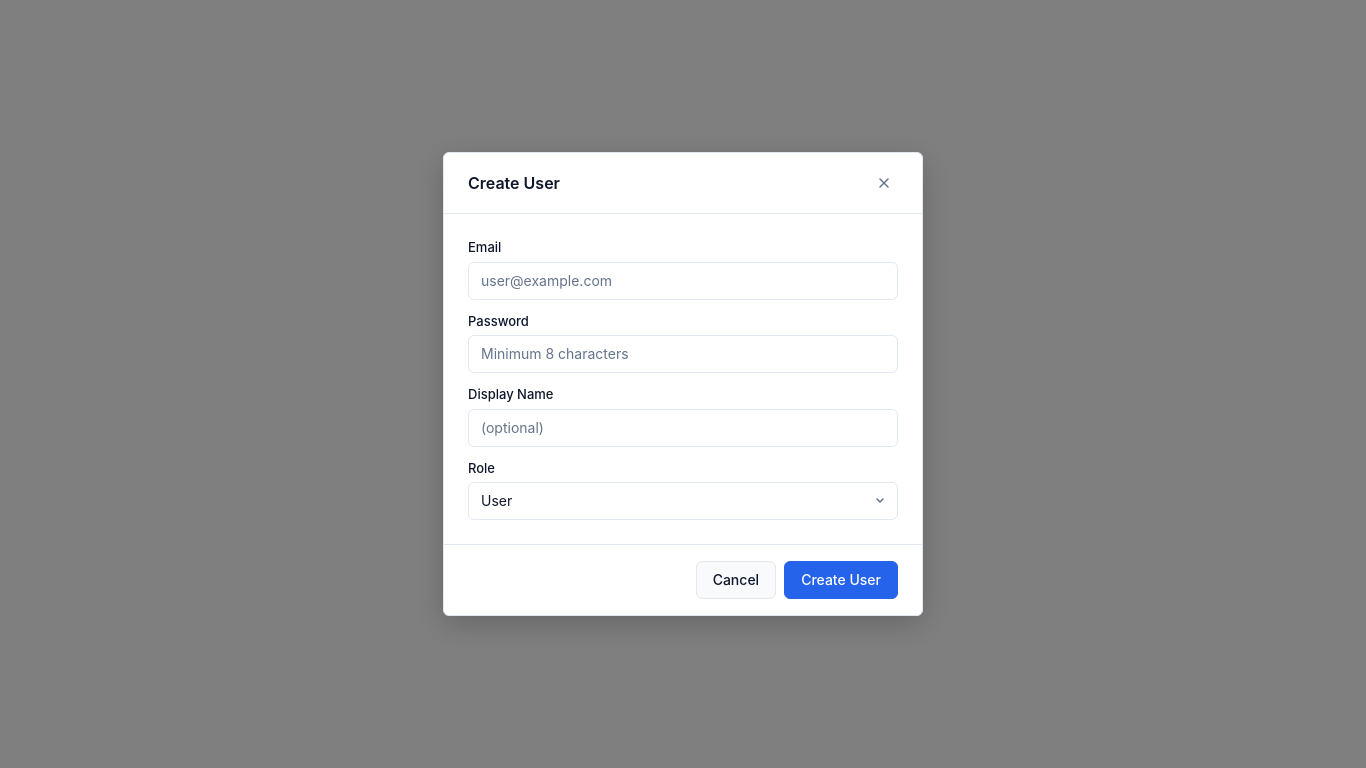
Scenario: CreateUserModal › validates required fields before submitting
The image size is (1366, 768).
Click the button "Create User" at (841,580), box [784,561,898,599]
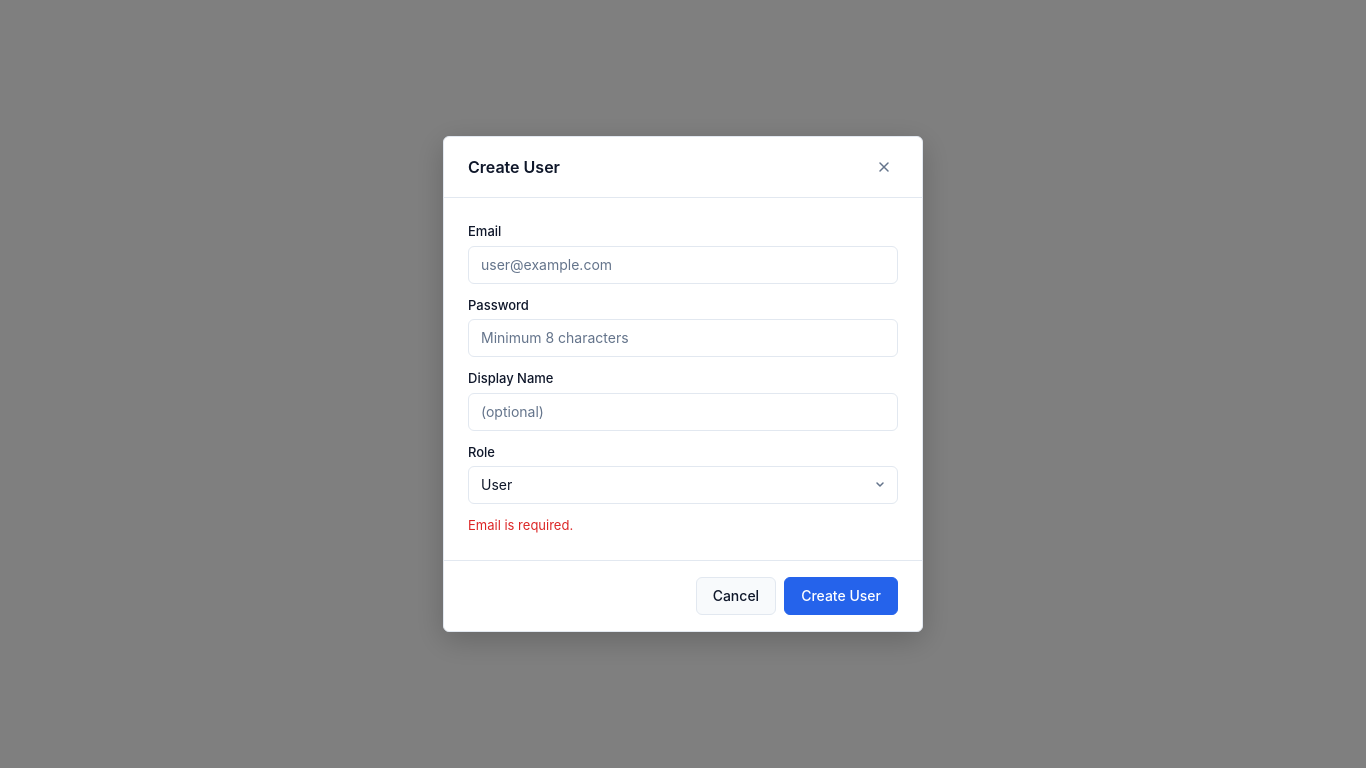
Expected: the text "Email is required." is shown, [468,517,573,533]
Type "not-an-email" into the field labelled "Email" at (683,265), box [468,246,898,284]
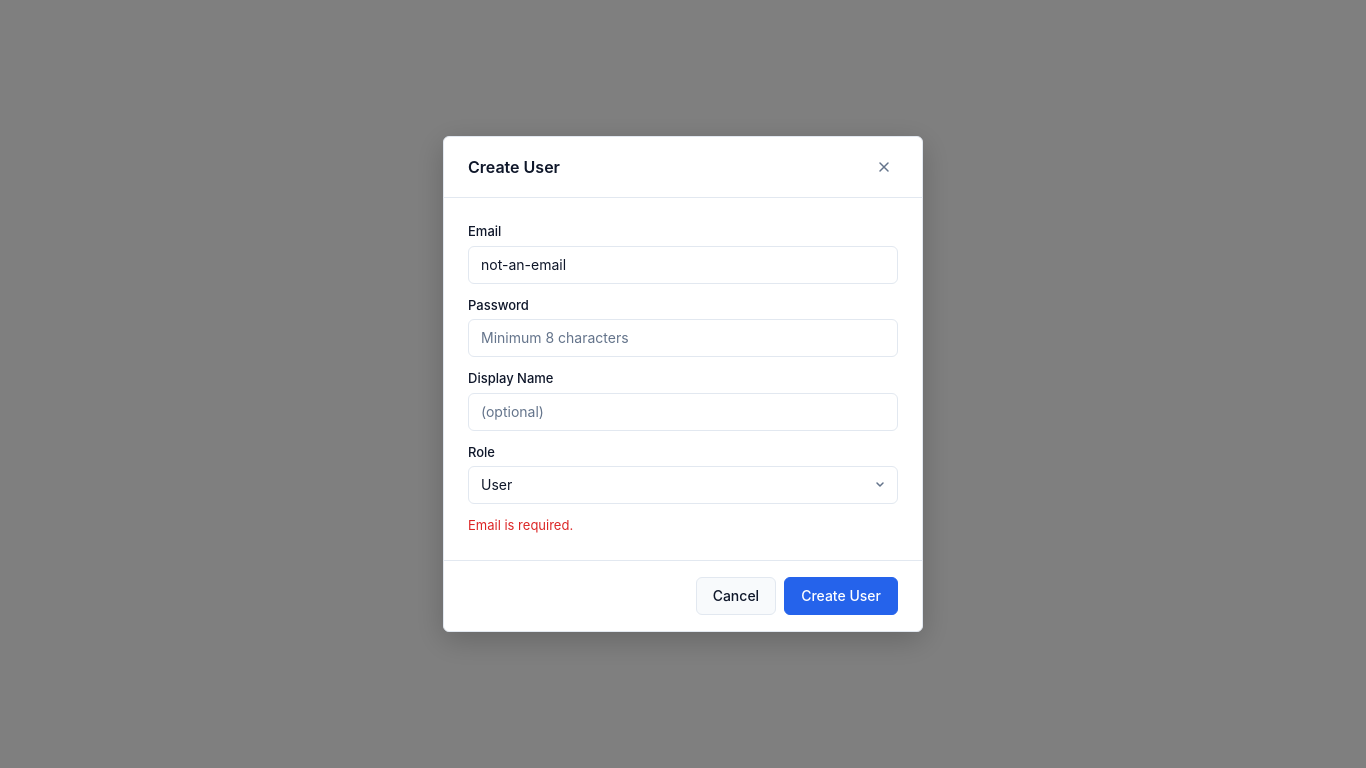
Click the button "Create User" at (841,596), box [784,577,898,615]
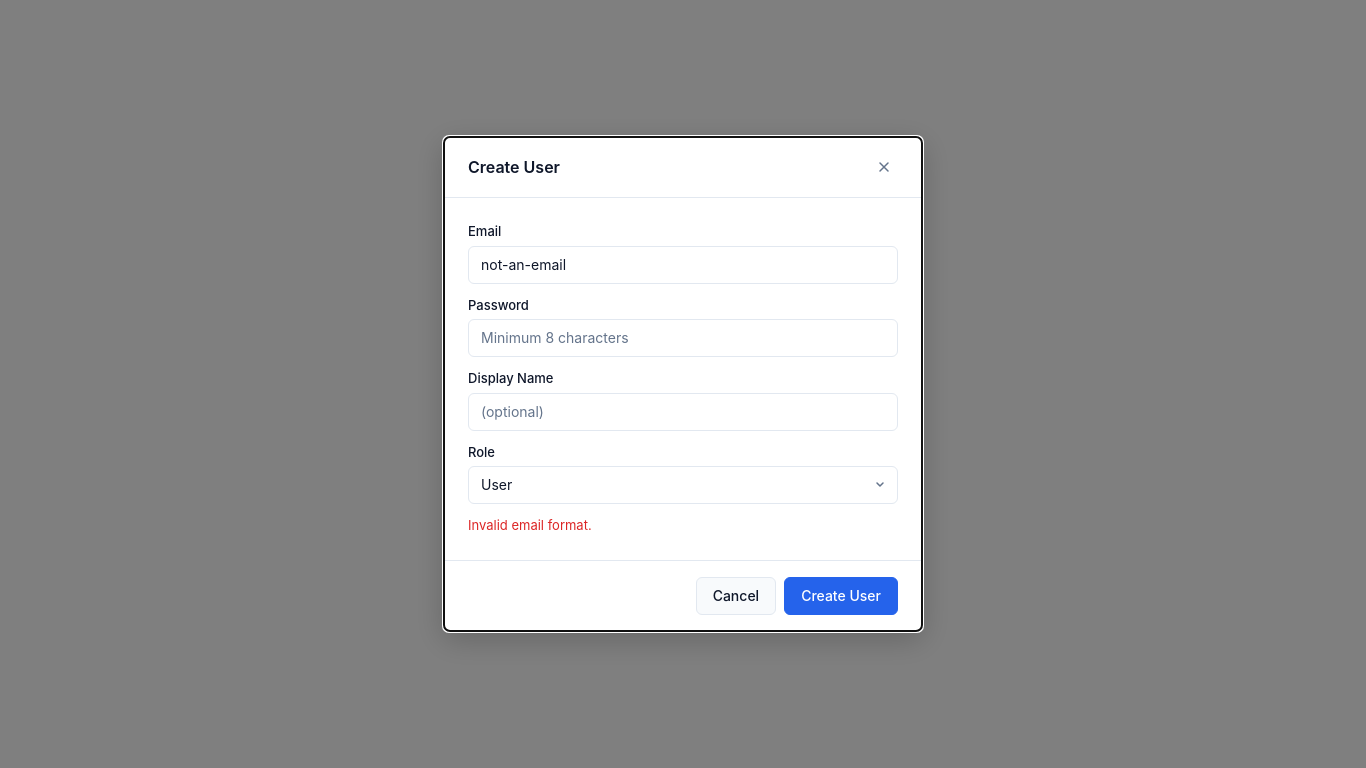
Expected: the text "Invalid email format." is shown, [468,517,592,533]
Replace the text in the field labelled "Email" with "user@example.com" at (683,265), box [468,246,898,284]
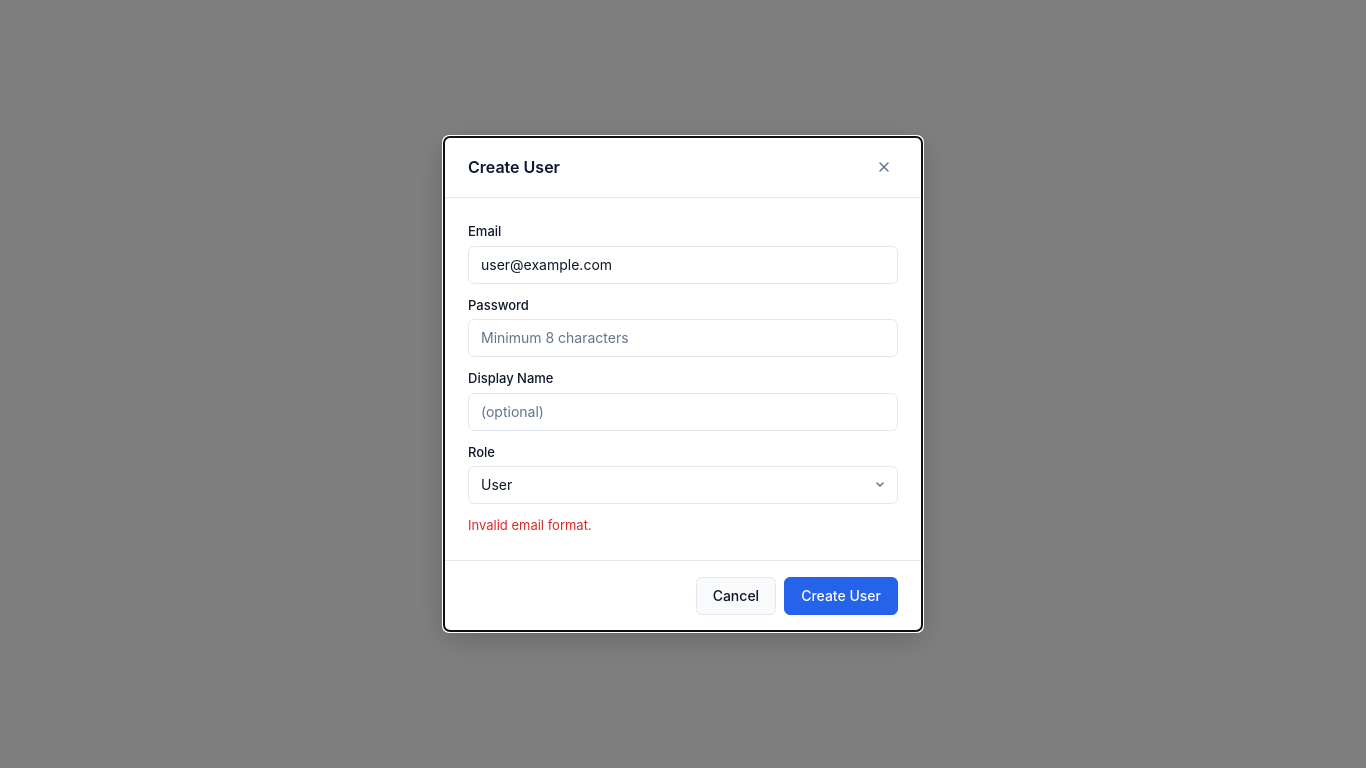
Type "short" into the password field labelled "Password" at (683,338), box [468,319,898,357]
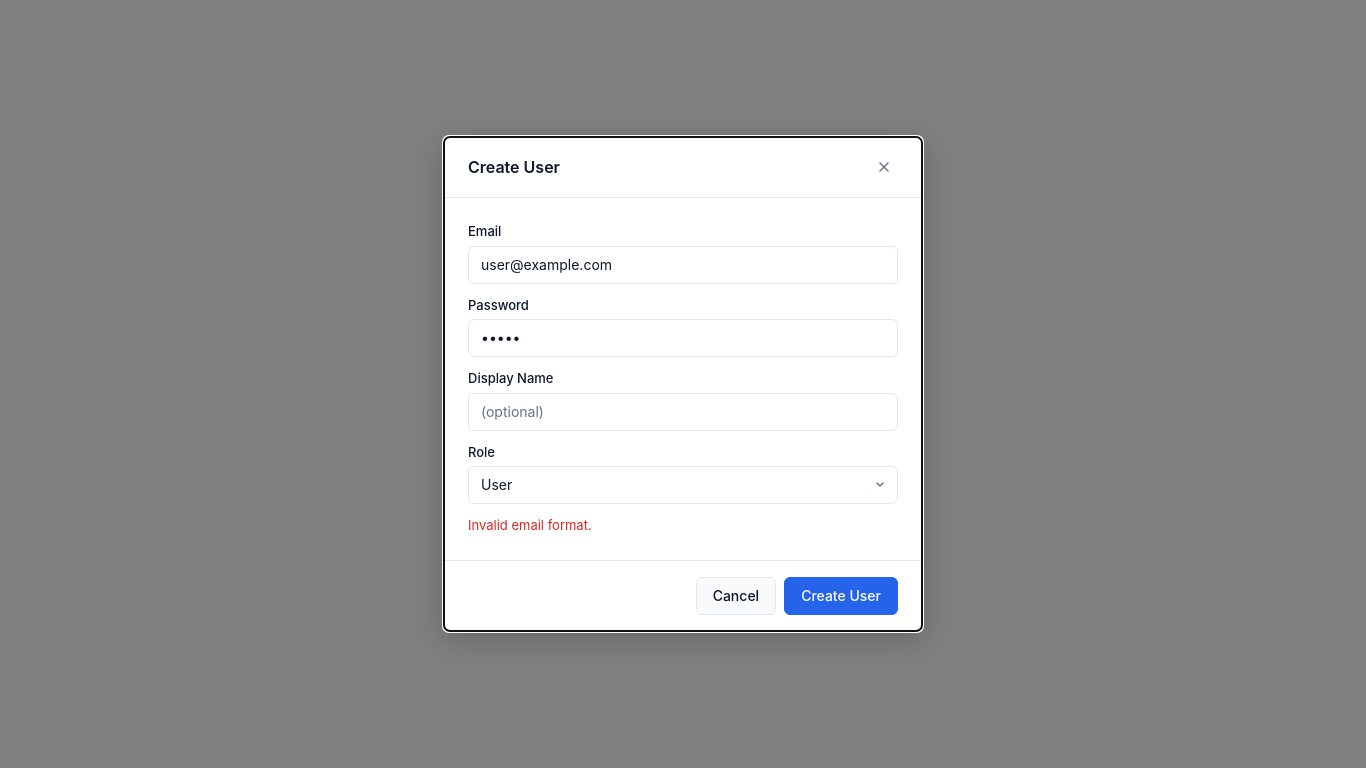
Click the button "Create User" at (841,596), box [784,577,898,615]
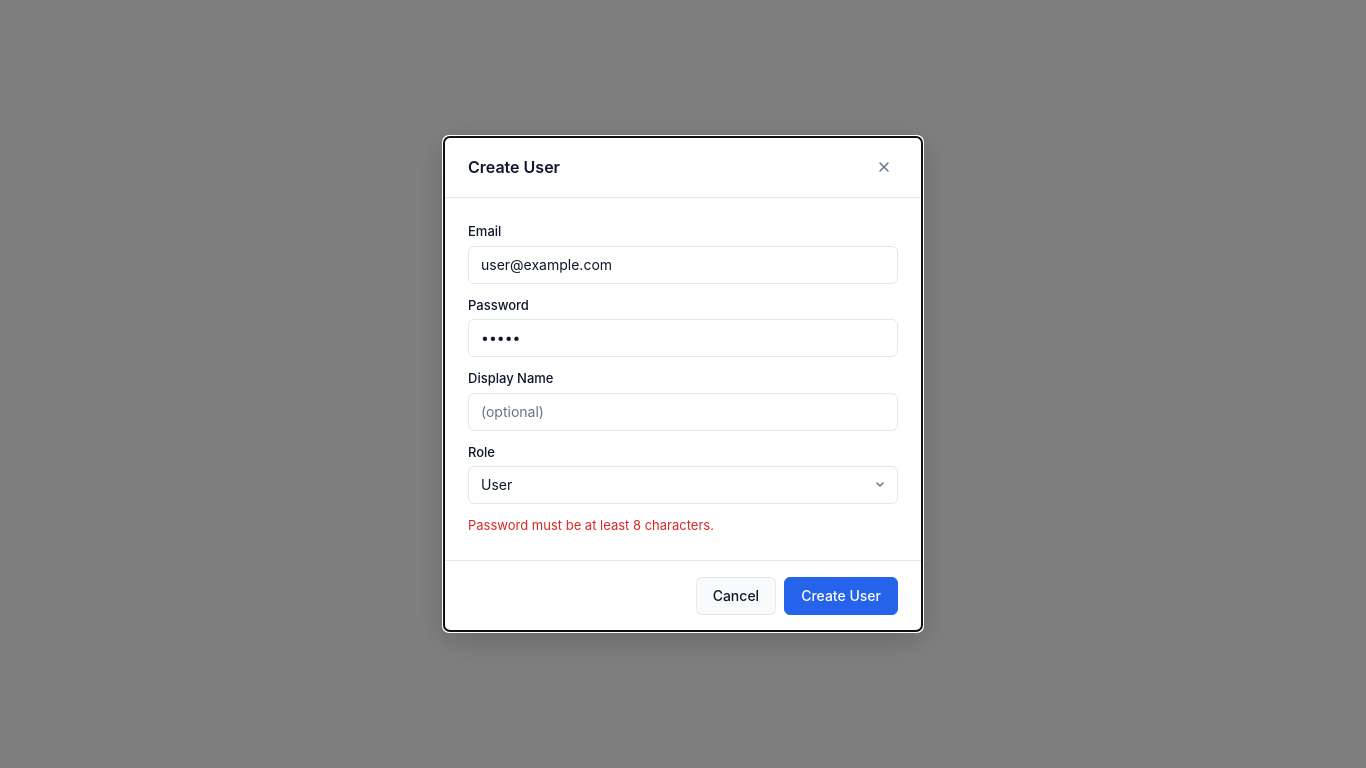
Expected: the text "Password must be at least 8 characters." is shown, [468,517,714,533]
